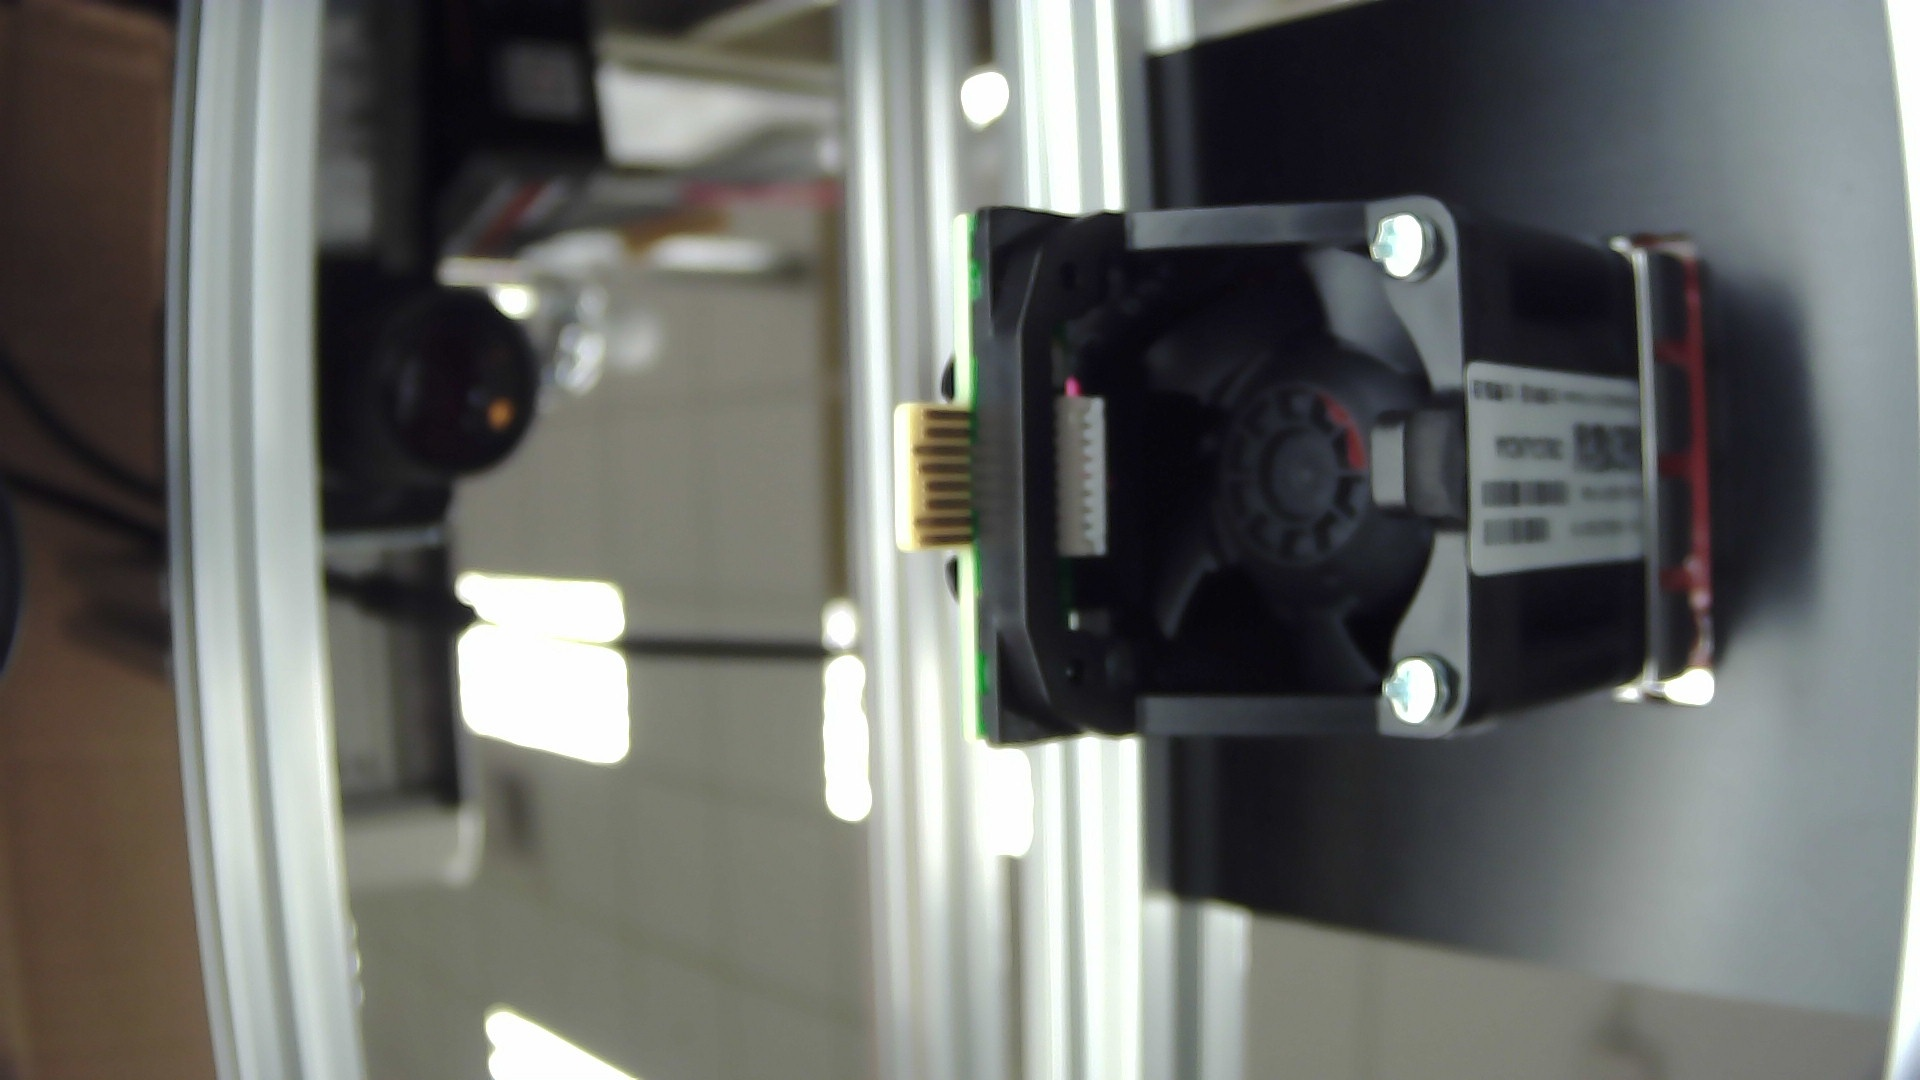4_0: (841, 140, 1784, 771)
